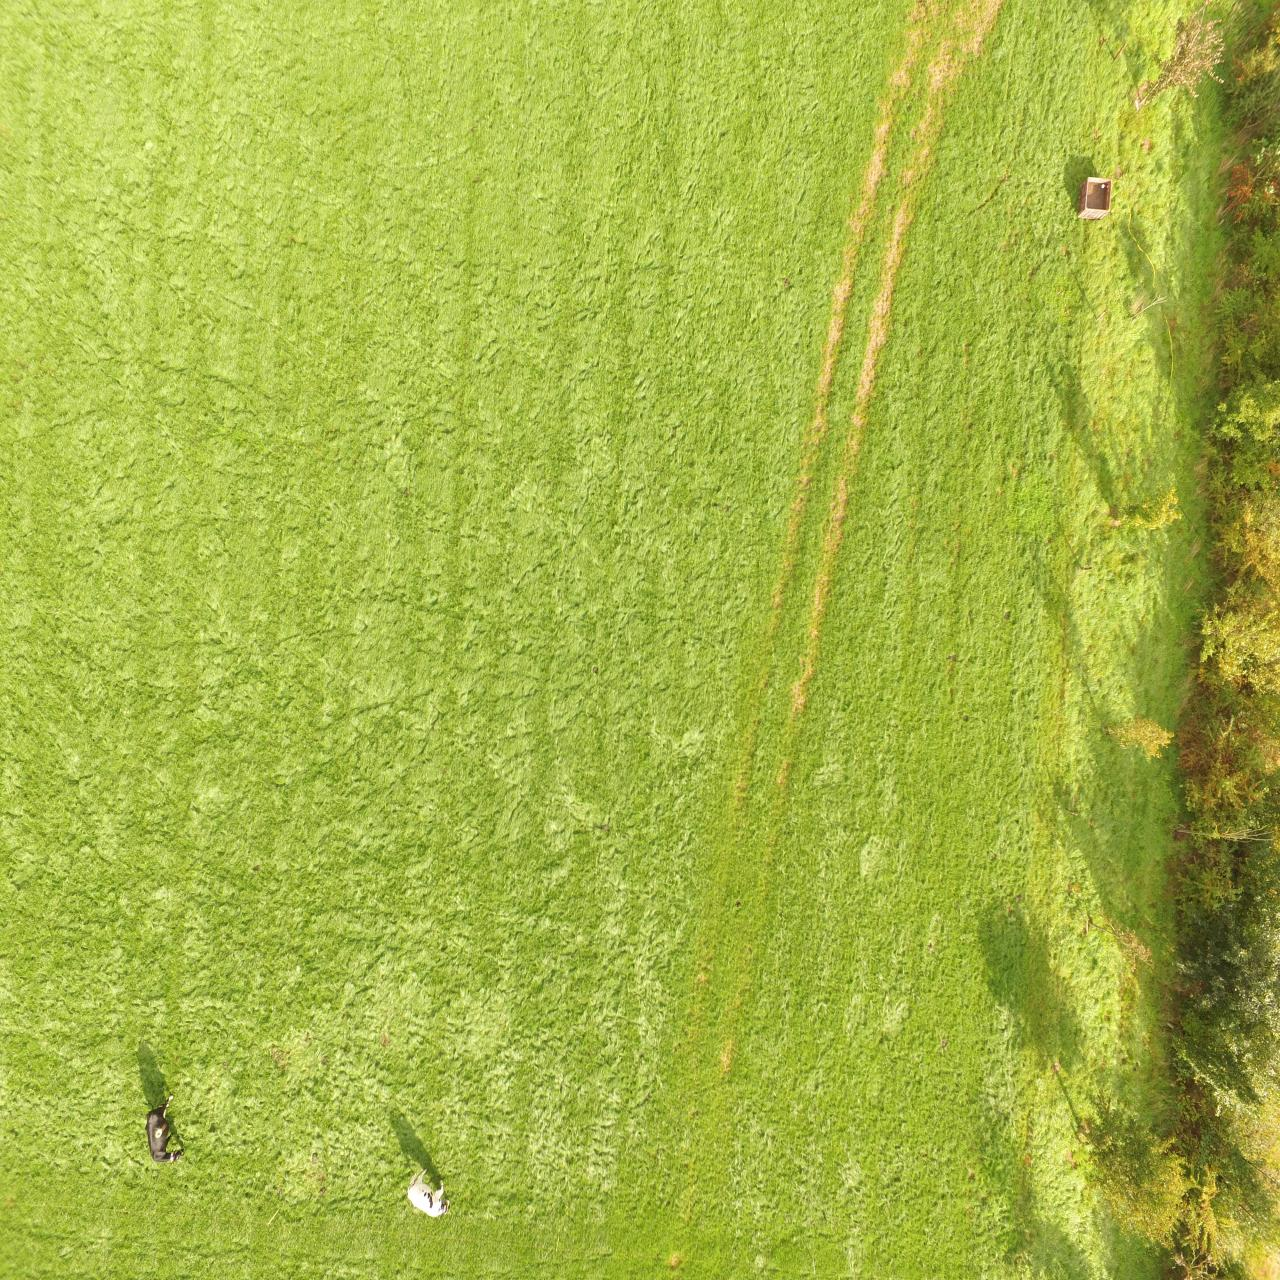cow: (141, 1090, 187, 1169), (403, 1166, 452, 1222)
